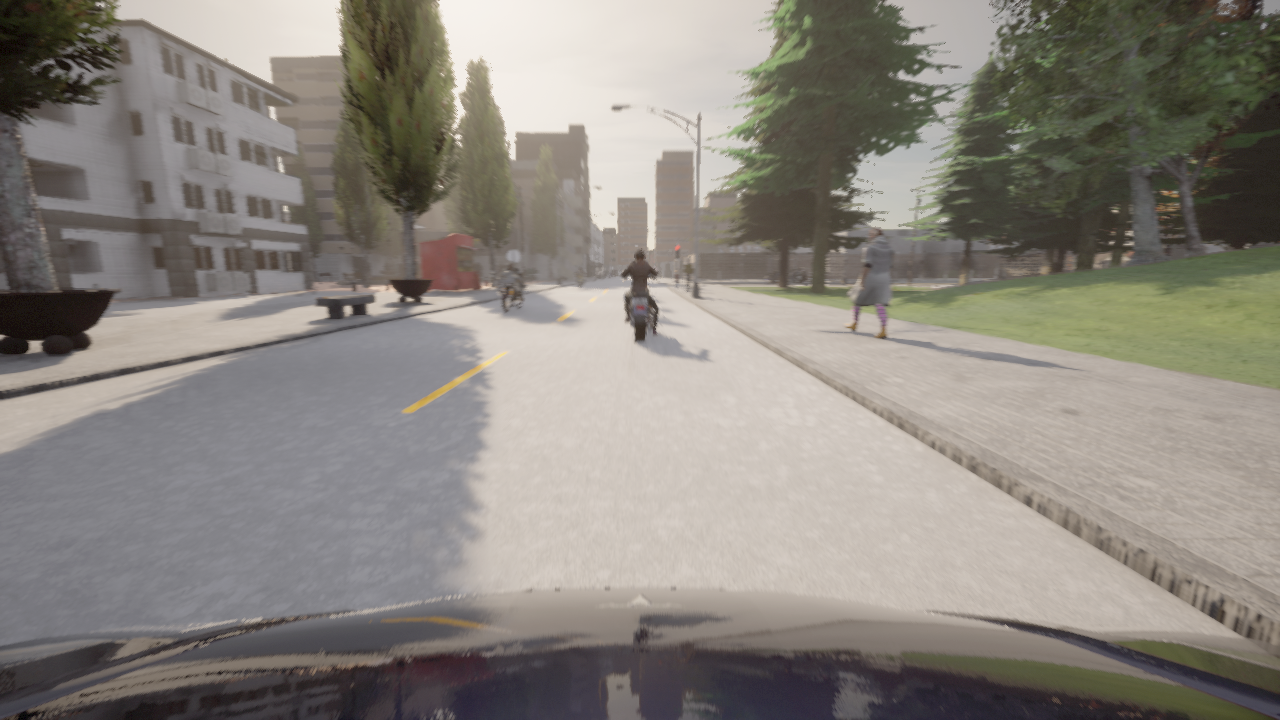cyclist: (0, 588, 1279, 719), (620, 268, 659, 341), (492, 271, 525, 312), (788, 272, 809, 284), (765, 273, 777, 284), (576, 272, 583, 289), (715, 267, 729, 272), (737, 277, 756, 278)
pedestrian: (844, 228, 893, 339), (682, 258, 692, 291), (673, 270, 679, 291)
